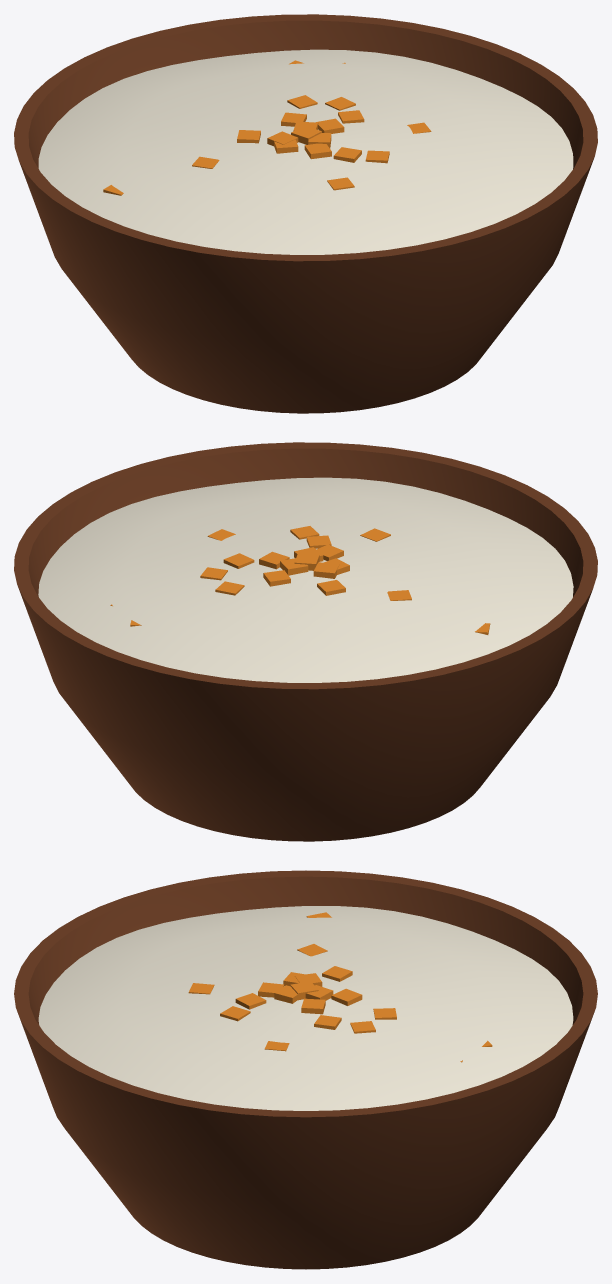
The model's file is cumbuca-branco+legumes.glb.
3 views of the same model, one above another, from view 1: azimuth 30°, elevation 25°; view 2: azimuth 150°, elevation 25°; view 3: azimuth 270°, elevation 25° (orthographic).
Parts seen in each view (by area): view 1: cumbuca-branco+legumes; view 2: cumbuca-branco+legumes; view 3: cumbuca-branco+legumes.
Part boxes in pixels (<box>): cumbuca-branco+legumes: <box>14,14,597,413</box>; cumbuca-branco+legumes: <box>14,442,597,841</box>; cumbuca-branco+legumes: <box>14,870,597,1269</box>.
Size of the model in its own units: 0.16 by 0.062 by 0.16.
